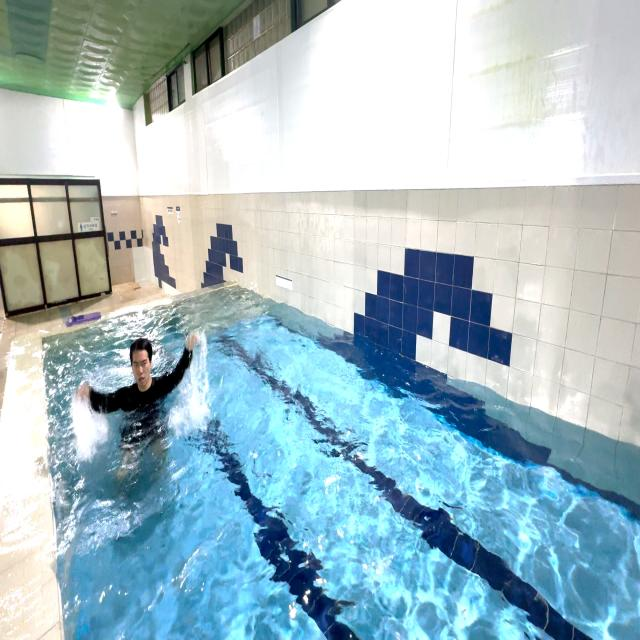Swimming: (68, 325, 212, 447)
